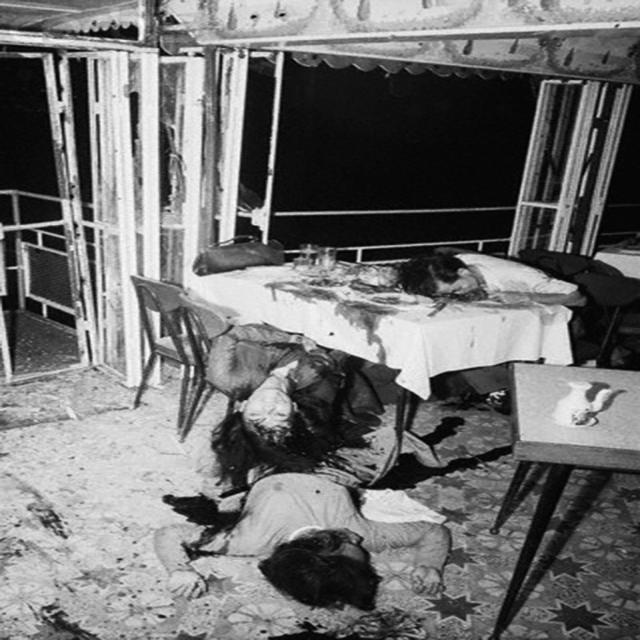Table: (174, 251, 598, 469), (495, 361, 639, 639)
